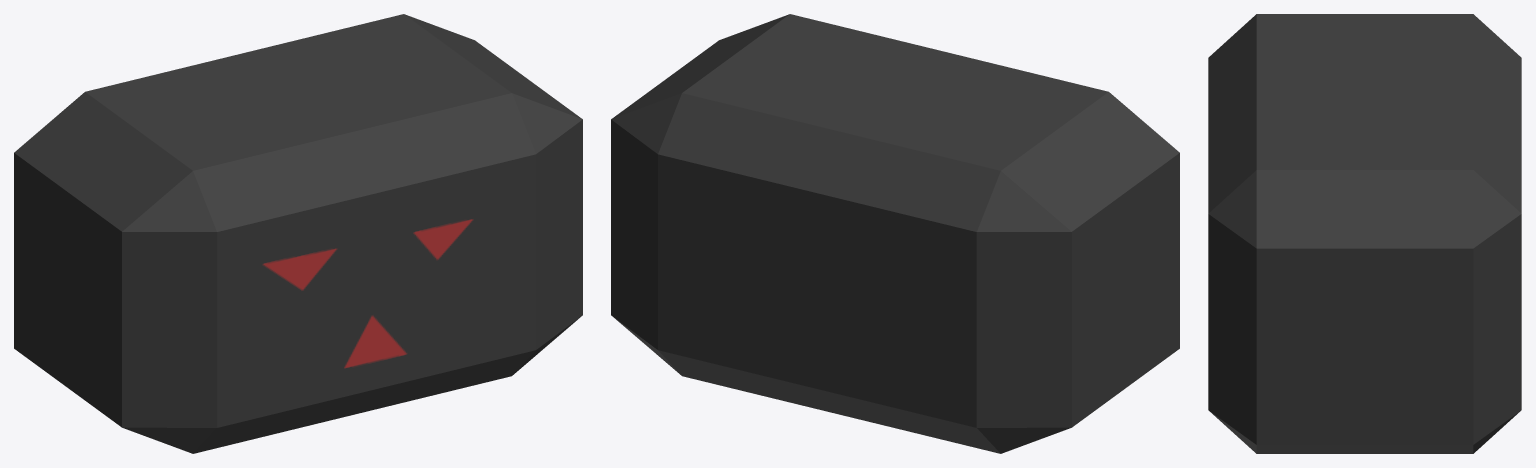
File: Enemy02_Body.obj
The picture shows the model from 3 angles, left to right: view 1: azimuth 30°, elevation 25°; view 2: azimuth 150°, elevation 25°; view 3: azimuth 270°, elevation 25°; orthographic projection.
Parts seen in each view (by area): view 1: 立方体; view 2: 立方体; view 3: 立方体.
Boxes of the visible parts, left/top/right/bottom form: 立方体: left=14, top=14, right=582, bottom=453; 立方体: left=611, top=14, right=1179, bottom=453; 立方体: left=1208, top=14, right=1521, bottom=453.
Size of the model in its own units: 3.41 by 2 by 2.
1 material, 1 textured.
